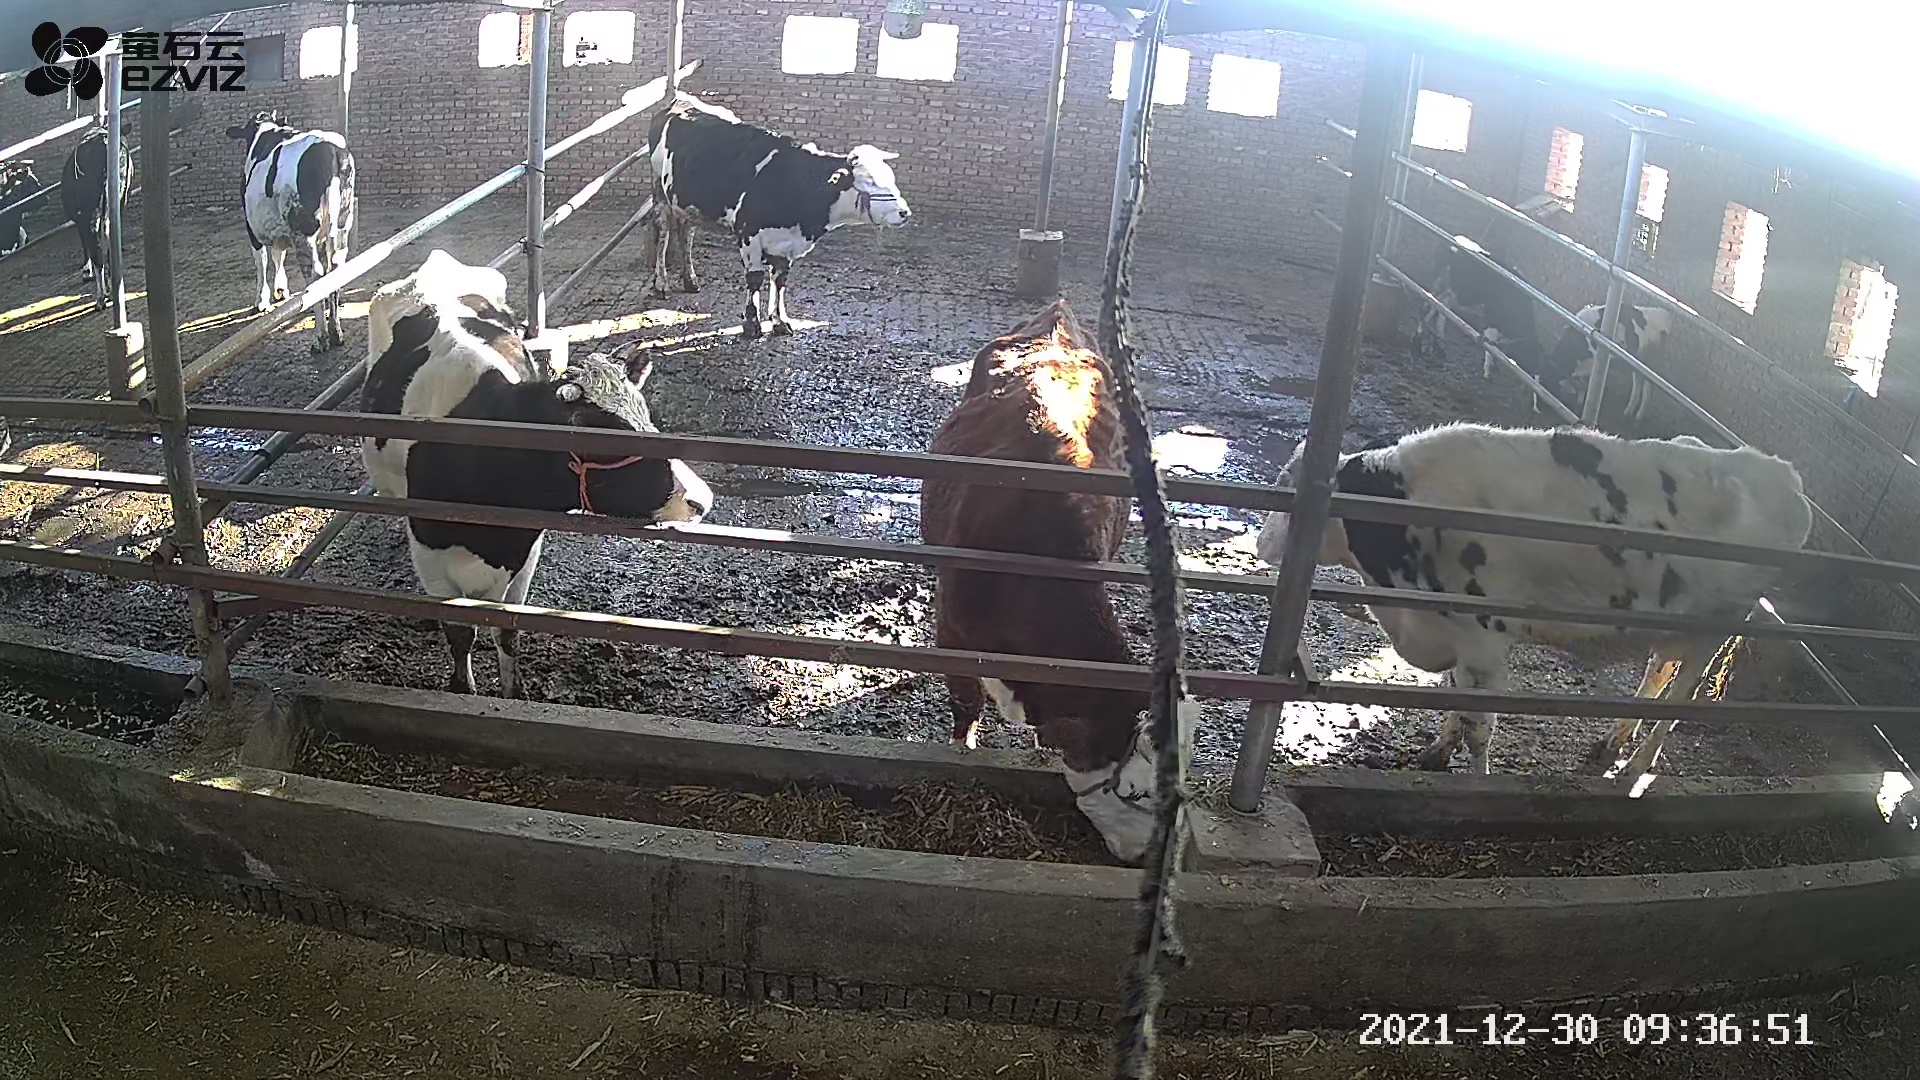cow: (1254, 421, 1813, 775), (352, 243, 716, 702), (916, 297, 1197, 865), (646, 86, 914, 338)
